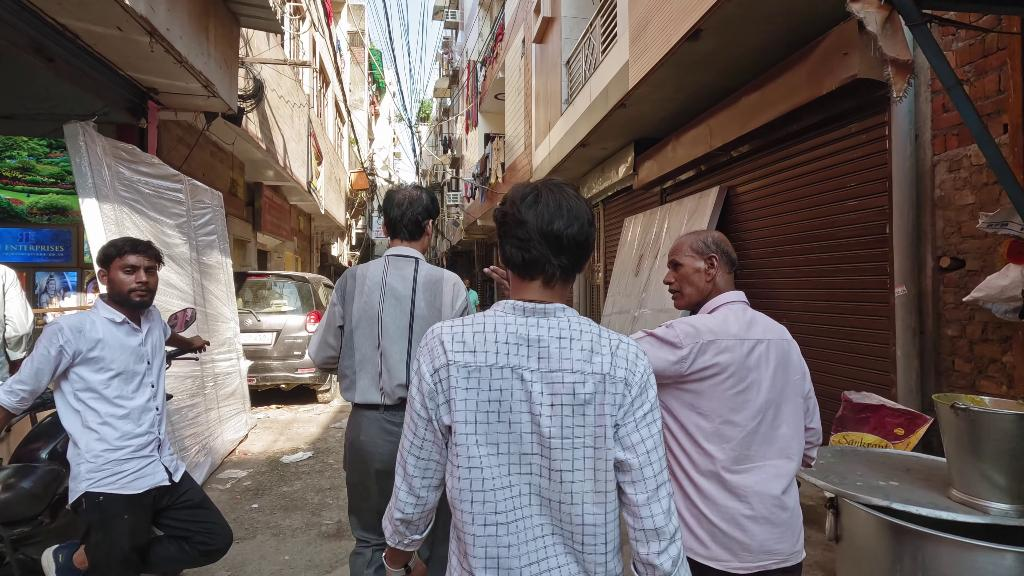garbage: (215, 457, 251, 491), (280, 443, 319, 471)
